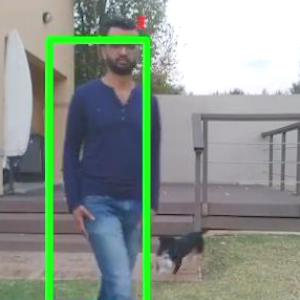follow: (81, 37, 180, 299)
